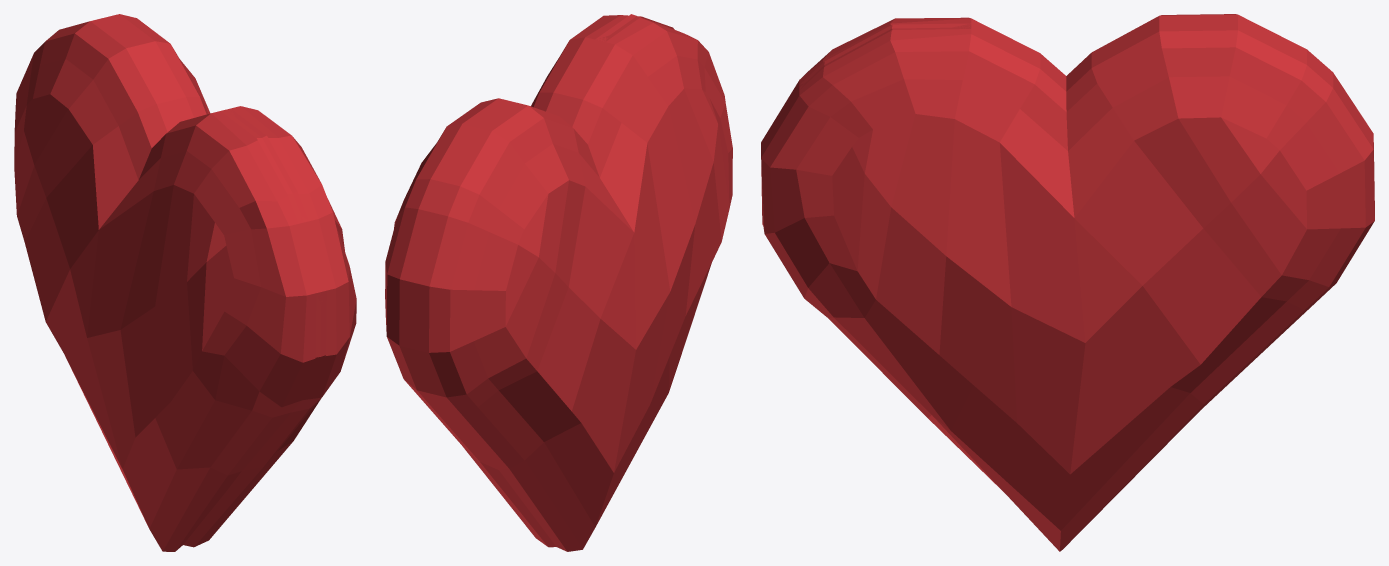
The model's file is HpHeart.fbx.
3 renders of one model, left to right at view 1: azimuth 30°, elevation 25°; view 2: azimuth 150°, elevation 25°; view 3: azimuth 270°, elevation 25°, orthographic. The views are drawn at different scales.
Parts seen in each view (by area): view 1: Cube; view 2: Cube; view 3: Cube.
Part boxes in pixels (x1,y1,x2,y2): Cube: (14,14,356,551); Cube: (385,14,732,551); Cube: (761,14,1374,551).
Bounding box in the file's own units: 11.58 × 30.04 × 32.01.
